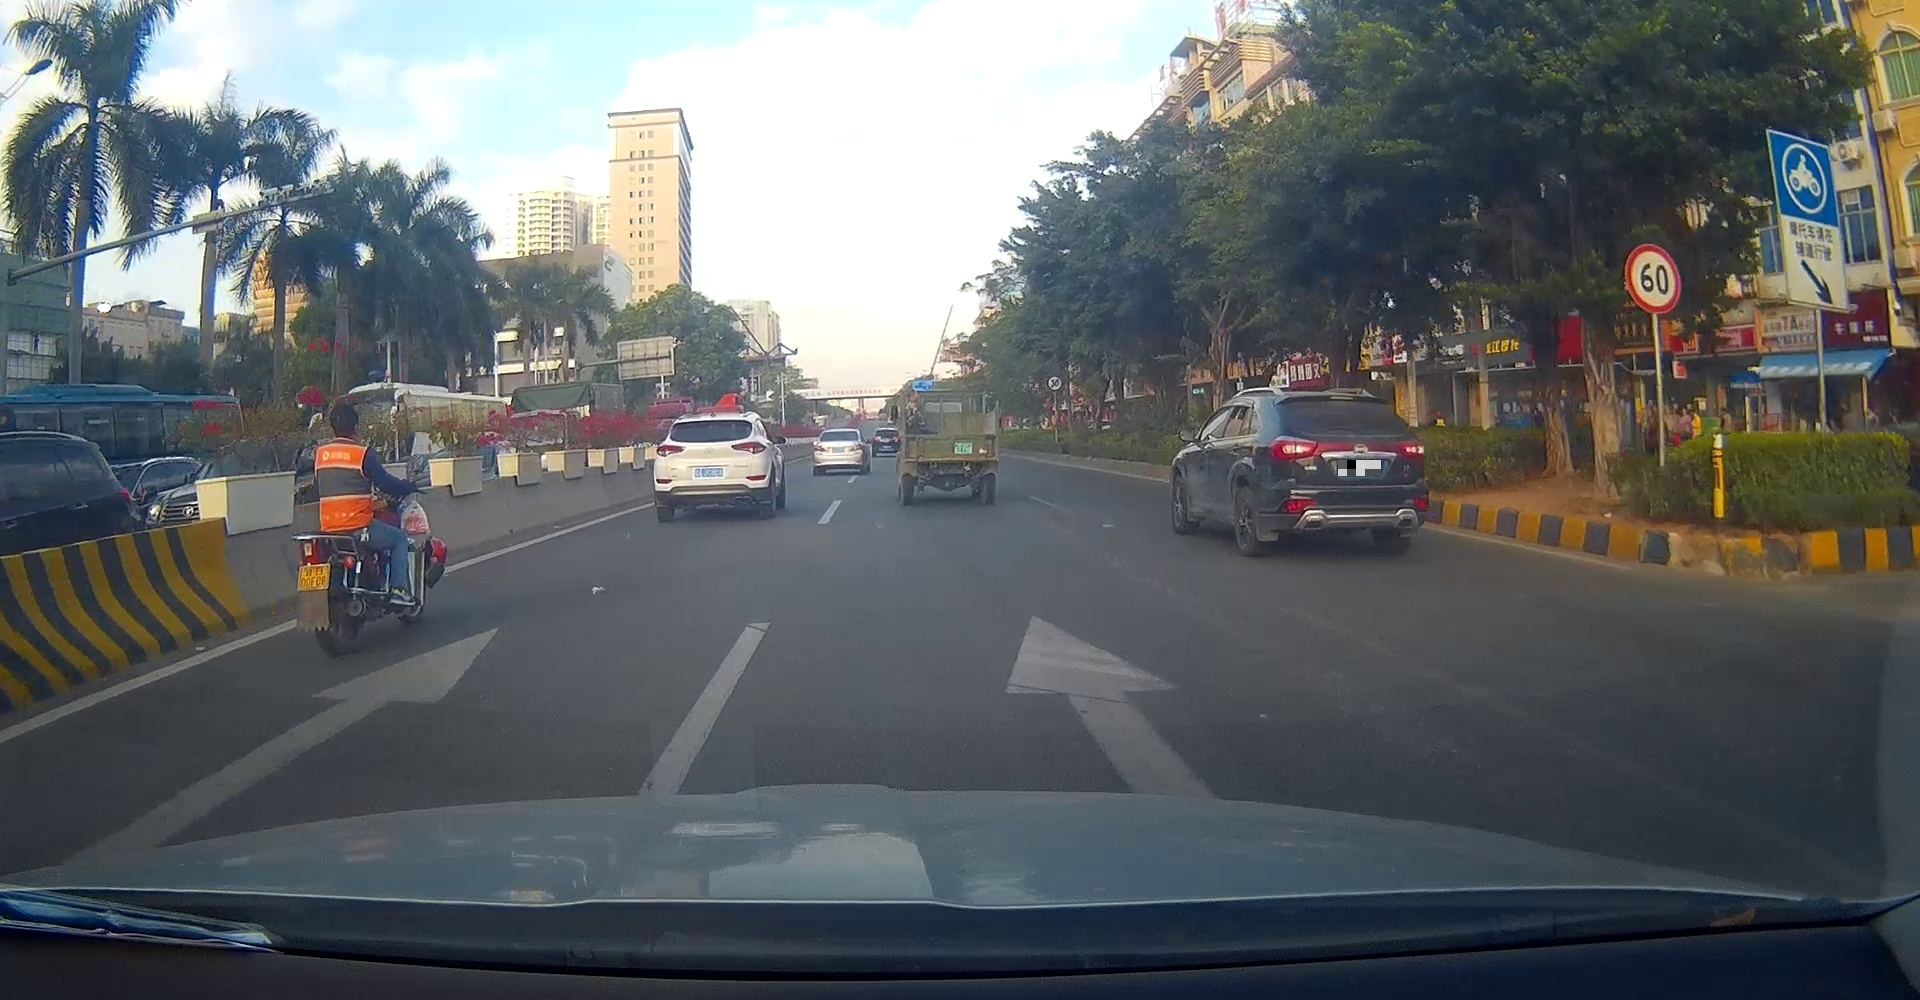L_light: (1269, 435, 1317, 459), (655, 444, 684, 457), (814, 445, 825, 452)
R_light: (1397, 439, 1425, 459), (731, 442, 767, 456), (850, 444, 862, 451)
T_light: (1330, 398, 1352, 405), (703, 421, 720, 425), (836, 431, 844, 434)
day-no: (1269, 391, 1429, 556), (653, 411, 771, 522), (813, 428, 863, 475)
plate_1: (1338, 459, 1382, 476)
